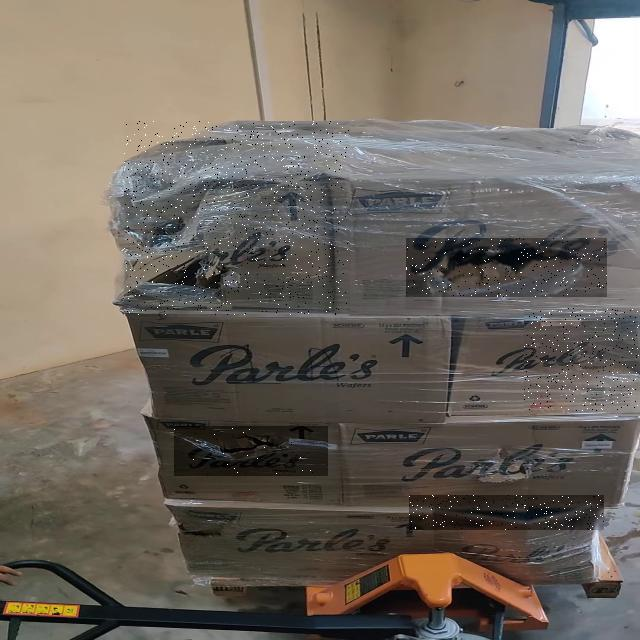leakage: (406, 238, 607, 297), (130, 235, 245, 305)
squeeze: (124, 121, 349, 315), (525, 308, 639, 411)
tear: (175, 426, 326, 475), (409, 495, 604, 530)
